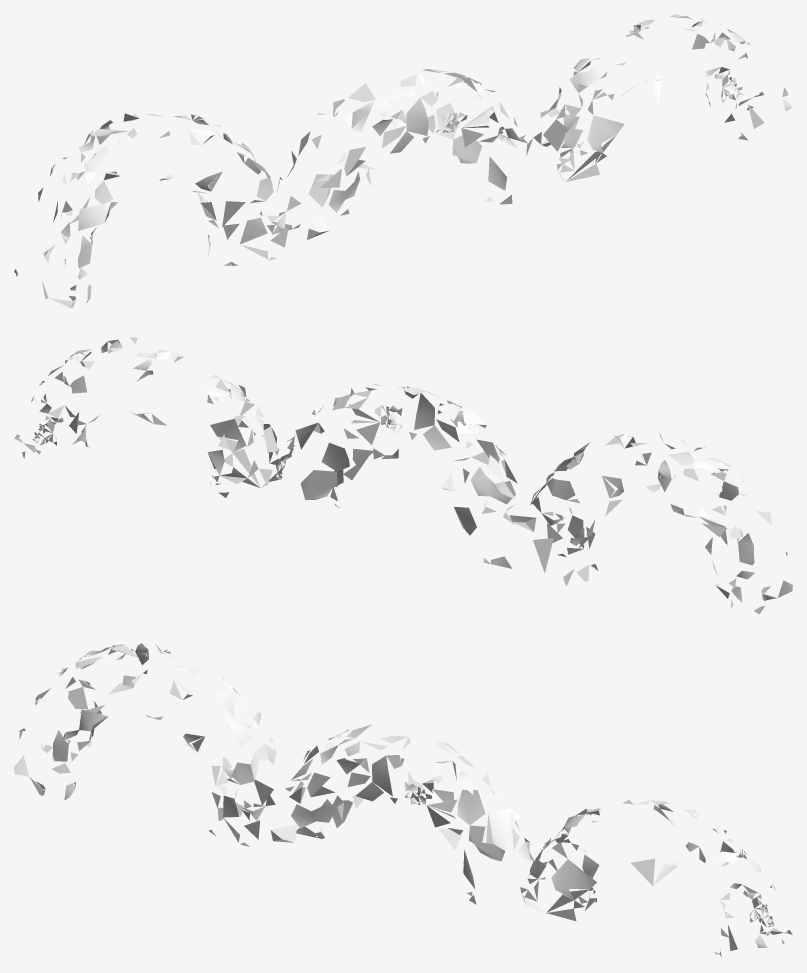
3 views of the same model, one above another, from view 1: azimuth 30°, elevation 25°; view 2: azimuth 150°, elevation 25°; view 3: azimuth 330°, elevation 25° (orthographic).
Bounding box in the file's own units: 1.92 × 0.38 × 0.1772.
1 material, 1 textured.
